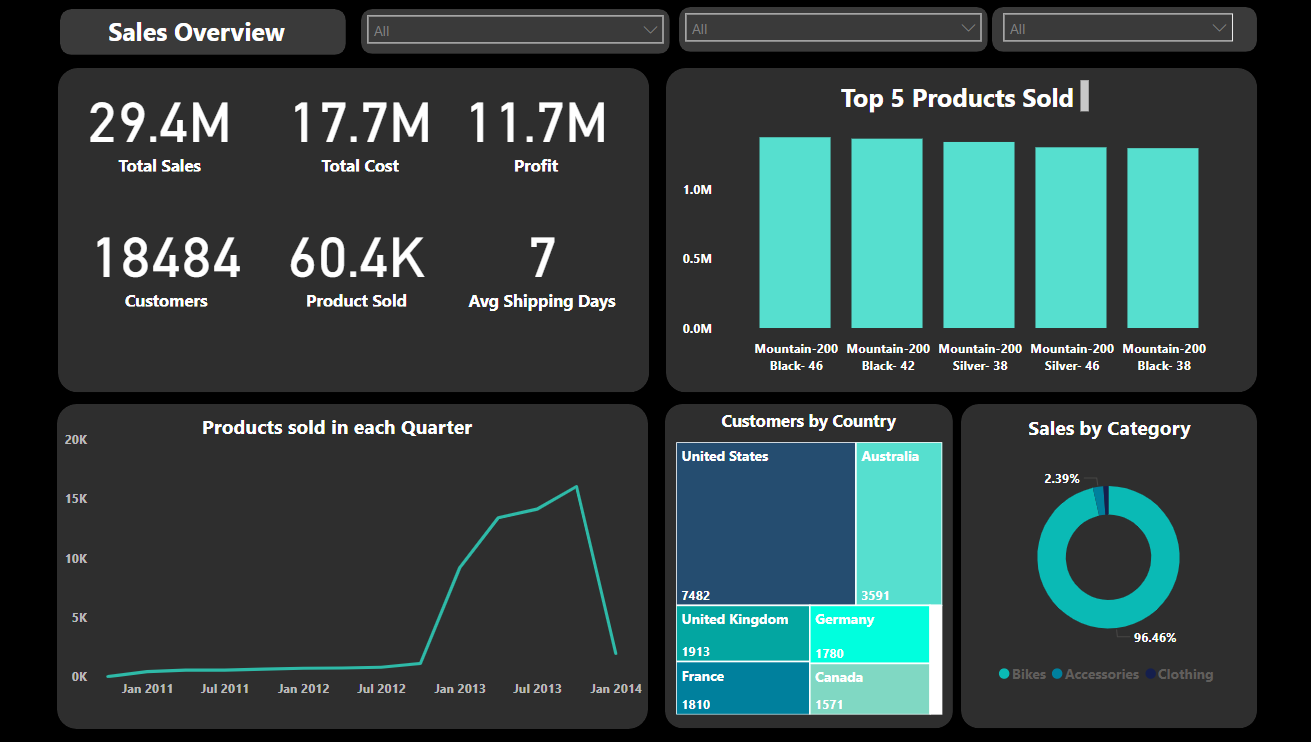

The page's visual inventory and layout, read from the dashboard file:
{"tool":"powerbi","page":{"name":"Page 1","canvas":[1280,720],"ordinal":0},"visuals":[{"type":"shape","box":[63.7,70.1,569,312.2],"z":0},{"type":"card","fields":{"Values":["_measures.Total Sales"]},"box":[79.2,76.9,164.4,98.2],"z":1000},{"type":"card","fields":{"Values":["_measures.Profit"]},"box":[439.1,76.9,169.2,98.2],"z":2000},{"type":"card","fields":{"Values":["_measures.Product Sold"]},"box":[274.7,207.2,152.7,98.2],"z":3000},{"type":"card","fields":{"Values":["_measures.Customers"]},"box":[79.2,207.2,177,98.2],"z":4000},{"type":"card","fields":{"Values":["_measures.Avg Shipping Days"]},"box":[450.8,201.4,157.6,109.9],"z":5000},{"type":"card","fields":{"Values":["_measures.Total Cost"]},"box":[269.9,76.9,169.2,98.2],"z":6000},{"type":"shape","box":[65.4,13.5,275.2,44.3],"z":7000},{"type":"textbox","box":[106.8,13.5,191.5,42.3],"z":8000},{"type":"shape","box":[648.2,70.1,569,312.2],"z":9000},{"type":"shape","box":[647.2,393.9,277.2,312.2],"z":10000},{"type":"shape","box":[932.2,393.9,285,312.2],"z":11000},{"type":"donutChart","title":"Sales by Category","fields":{"Y":["_measures.Total Sales"],"Category":["dim_Product.Category"]},"box":[946,439.8,257,231.9],"z":12000},{"type":"textbox","box":[979.3,398.1,191.5,41.7],"z":13000},{"type":"columnChart","fields":{"Category":["dim_Product.product_name"],"Y":["_measures.Total Sales"]},"box":[659.2,119.3,544.7,252.2],"z":14000},{"type":"textbox","box":[805.5,77,255,41.4],"z":15000},{"type":"treemap","fields":{"Group":["dim_customers.Country"],"Values":["_measures.Customers"]},"box":[653,425.5,266,272.2],"z":16000},{"type":"textbox","box":[690.2,393.6,191.5,40.8],"z":17000},{"type":"lineChart","fields":{"Y":["_Meaures.Product Sold"],"Category":["fact_Sales.Order_Date.Variation.Date Hierarchy.Year","fact_Sales.Order_Date.Variation.Date Hierarchy.Quarter"]},"box":[64.5,413.8,565.9,272.4],"z":18000},{"type":"shape","box":[62.6,393.6,568.8,312.8],"z":19000},{"type":"textbox","box":[181.9,397.5,300.3,41.4],"z":20000},{"type":"shape","box":[355.1,13.5,297.4,43.3],"z":21000},{"type":"shape","box":[661.2,11.5,297.4,43.3],"z":22000},{"type":"shape","box":[962.4,11.5,255,43.3],"z":23000},{"type":"slicer","fields":{"Values":["dim_Product.Product_line"]},"box":[351.3,9.6,305.1,54.9],"z":24000},{"type":"slicer","fields":{"Values":["dim_Product.Category"]},"box":[657.3,7.7,305.1,54.9],"z":25000},{"type":"slicer","fields":{"Values":["dim_customers.Country"]},"box":[963.4,7.7,240.6,41.4],"z":26000}]}

Visuals, with their boxes in screenshot pixels (x1, y1, x2, y2), scaled from the page's 1280x720 canvas onto the 1311x742 screenshot:
shape: 65 72 648 394
card - _measures.Total Sales: 81 79 249 180
card - _measures.Profit: 450 79 623 180
card - _measures.Product Sold: 281 214 438 315
card - _measures.Customers: 81 214 262 315
card - _measures.Avg Shipping Days: 462 208 623 321
card - _measures.Total Cost: 276 79 450 180
shape: 67 14 349 60
textbox: 109 14 306 58
shape: 664 72 1247 394
shape: 663 406 947 728
shape: 955 406 1247 728
"Sales by Category" donutChart: 969 453 1232 692
textbox: 1003 410 1199 453
columnChart - dim_Product.product_name x _measures.Total Sales: 675 123 1233 383
textbox: 825 79 1086 122
treemap - dim_customers.Country x _measures.Customers: 669 439 941 719
textbox: 707 406 903 448
lineChart - _Meaures.Product Sold x fact_Sales.Order_Date.Variation.Date Hierarchy.Year: 66 426 646 707
shape: 64 406 647 728
textbox: 186 410 494 452
shape: 364 14 668 59
shape: 677 12 982 56
shape: 986 12 1247 56
slicer - dim_Product.Product_line: 360 10 672 66
slicer - dim_Product.Category: 673 8 986 65
slicer - dim_customers.Country: 987 8 1233 51
